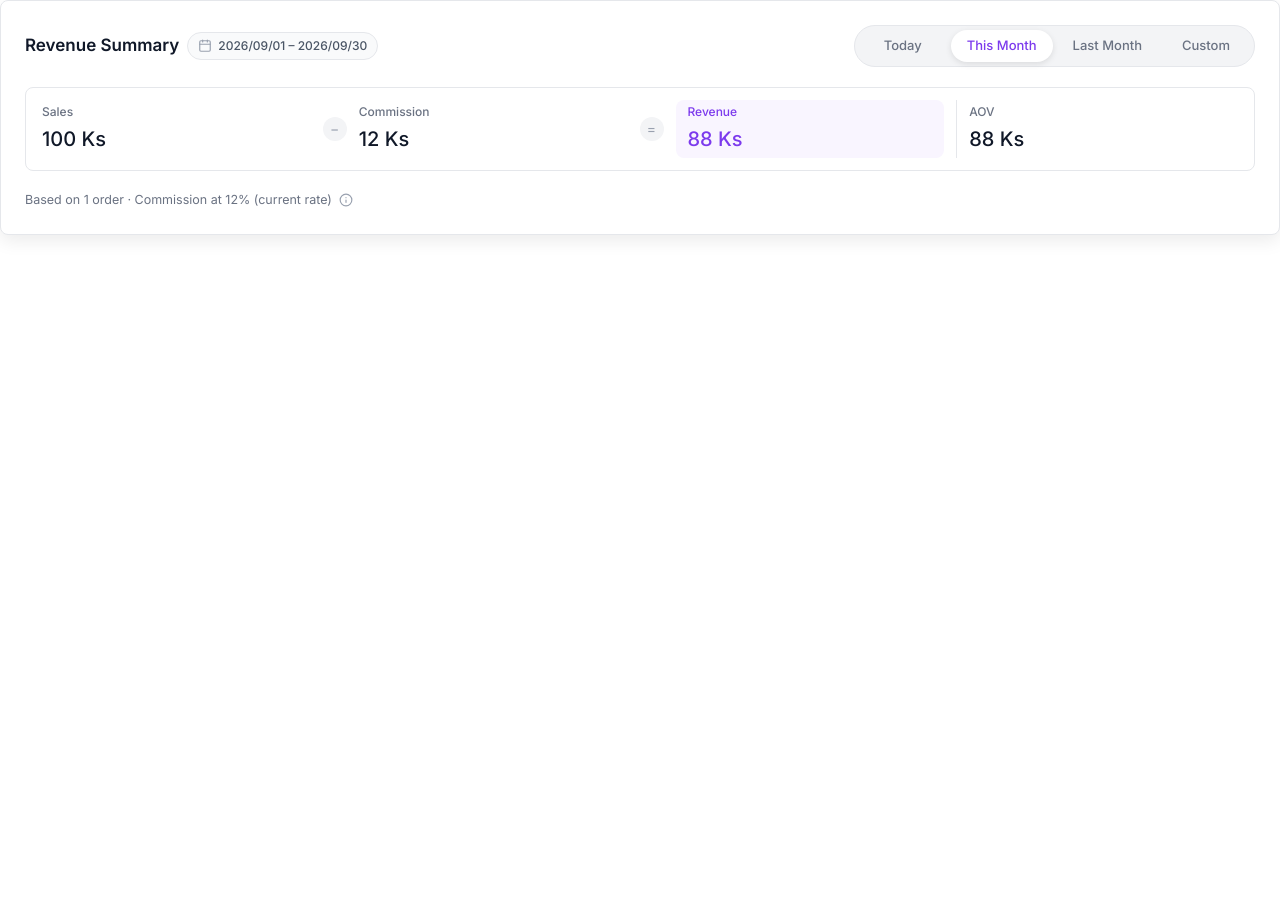
Test: RevenueSummaryGroup › opens the custom range modal without fetching, marks Custom active and holds the figures back
Click the button "Custom": (1206, 46) [1162,30,1250,62]
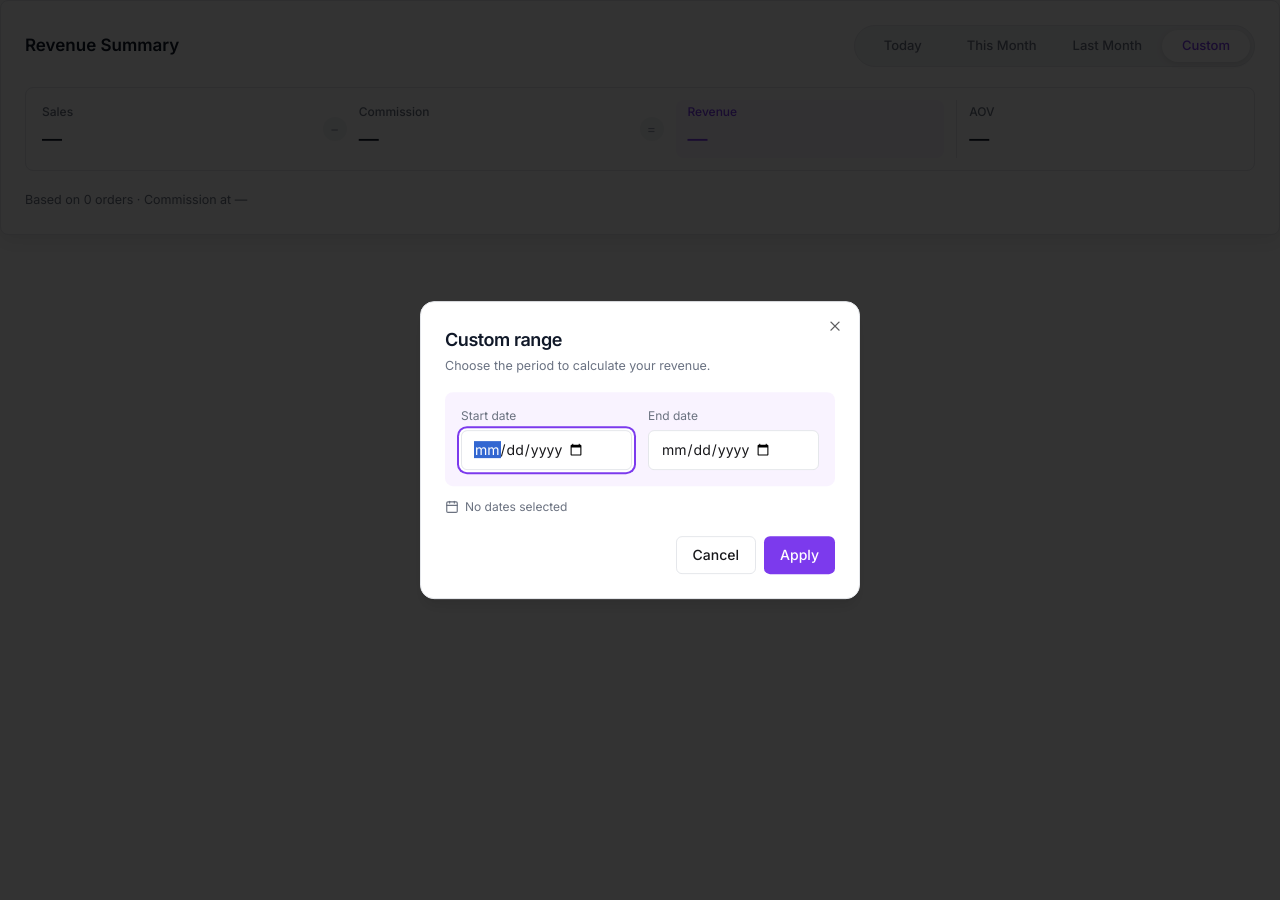
Now the dialog "Custom range" is shown, box [420,301,860,599]
Now the text "2026/09/01 – 2026/09/30" is gone
Now the text "—" is shown 4 times, box [42,127,62,151]; [359,127,379,151]; [688,127,708,151]; [969,127,989,151]
